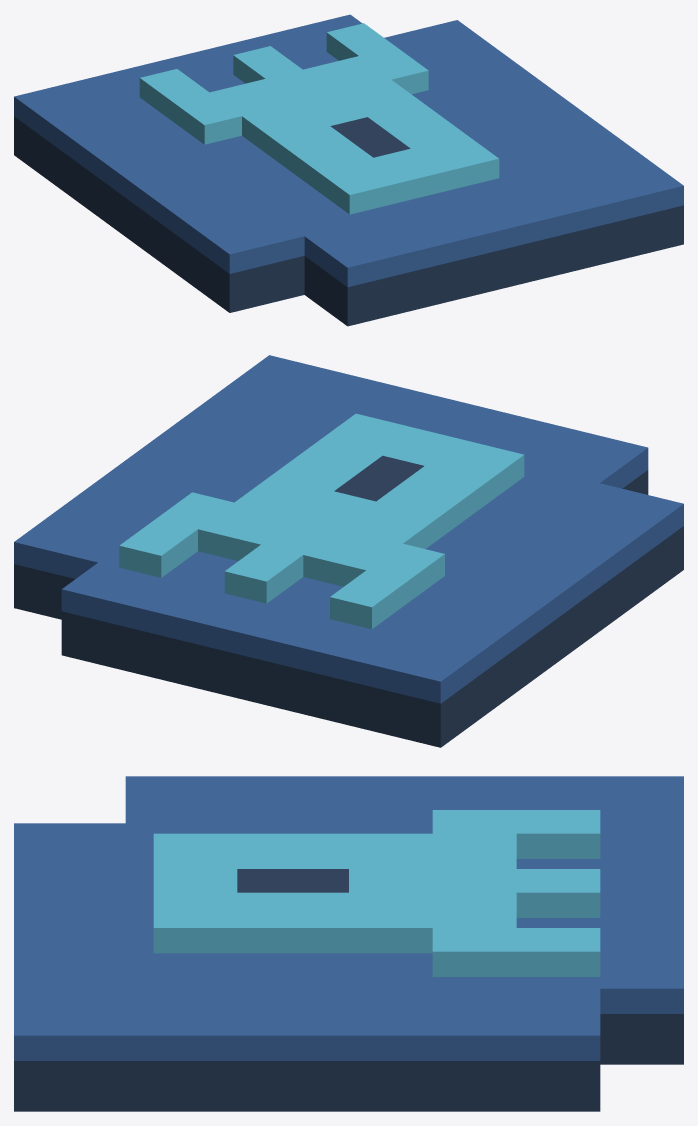
The model's file is voxel_32_70101.glb.
The picture shows the model from 3 angles, top to bottom: view 1: azimuth 30°, elevation 25°; view 2: azimuth 150°, elevation 25°; view 3: azimuth 270°, elevation 25°; orthographic projection. The views are drawn at different scales.
Visible parts, largest first — view 1: prop_70101; view 2: prop_70101; view 3: prop_70101.
Part boxes in pixels (x1,y1,x2,y2): prop_70101: (14, 14, 683, 326); prop_70101: (14, 355, 683, 747); prop_70101: (14, 776, 683, 1111).
Size of the model in its own units: 0.5706 by 0.1037 by 0.6225.
